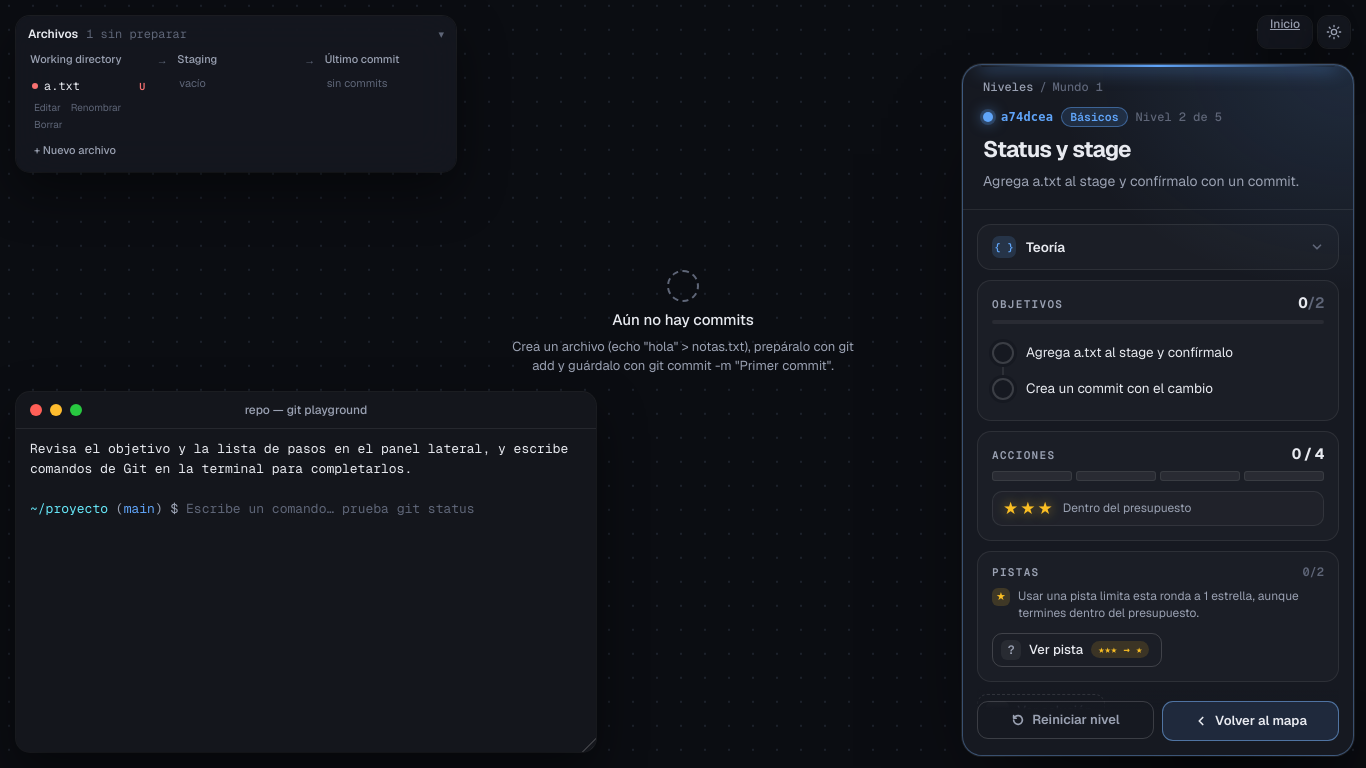
Scenario: LevelShell › shows no "Siguiente nivel" action when the level has no next level in the catalog
Type "git add a.txt" into the field labelled "comando".
click(384, 509); type("git add a.txt")  # box 186,499 -> 582,520
Then press Enter
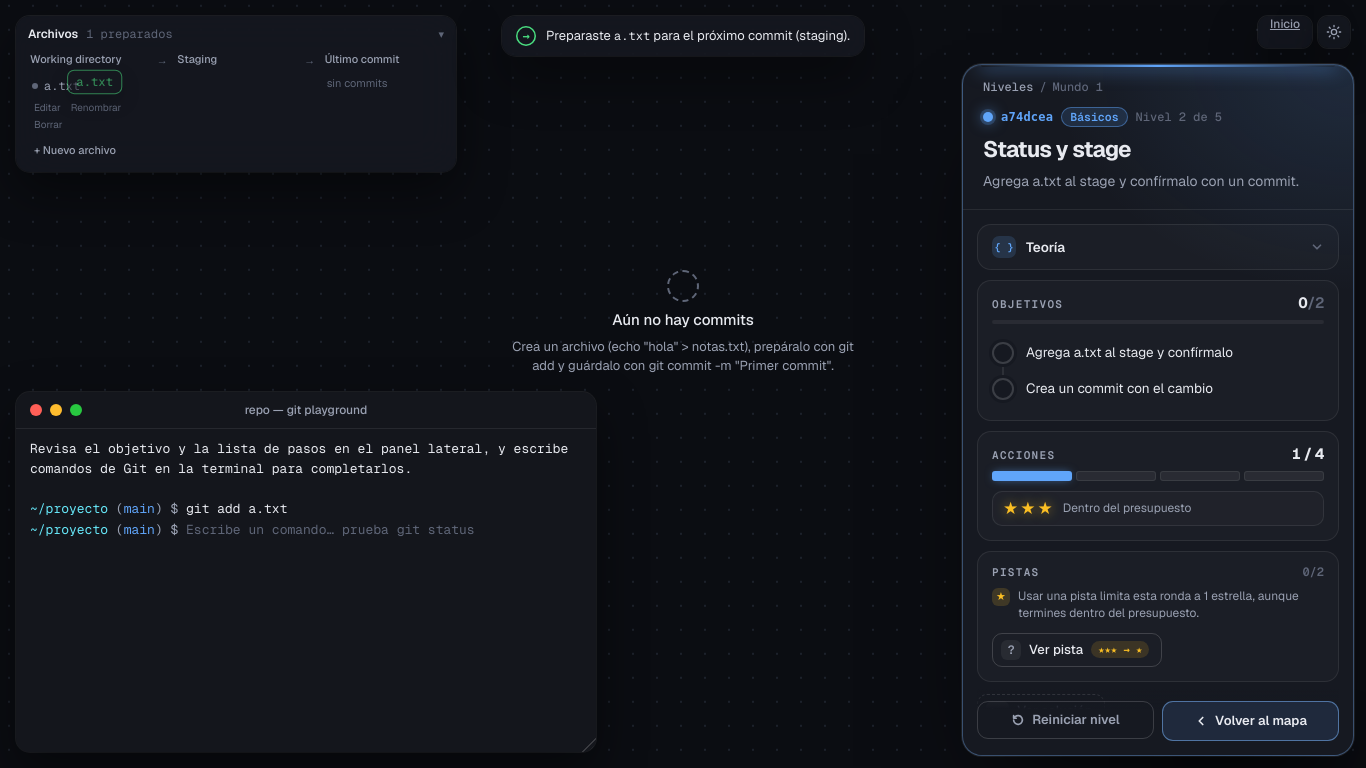
Type "git commit -m \"Agrega a.txt\"" into the field labelled "comando".
click(384, 530); type("git commit -m \"Agrega a.txt\"")  # box 186,520 -> 582,540
Then press Enter
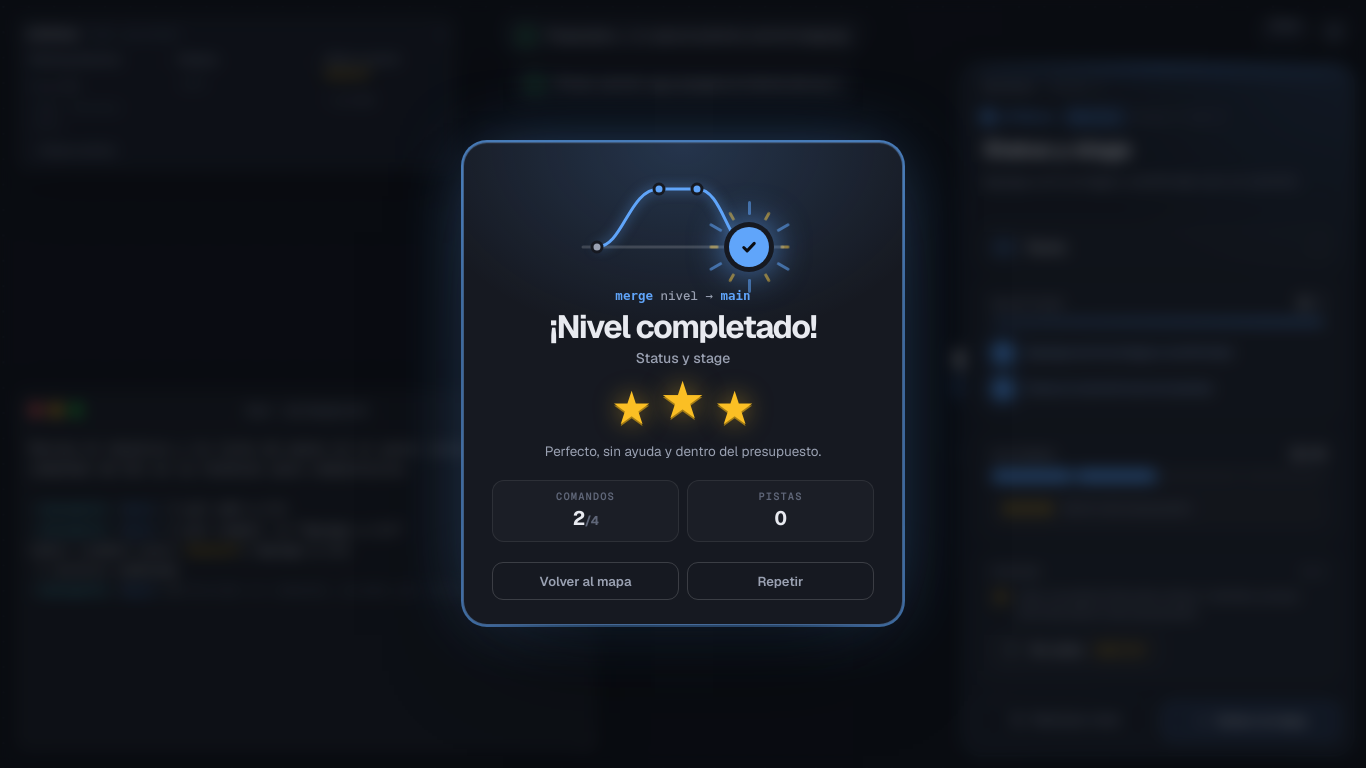
Now the dialog is shown, box 463,142 -> 903,626
